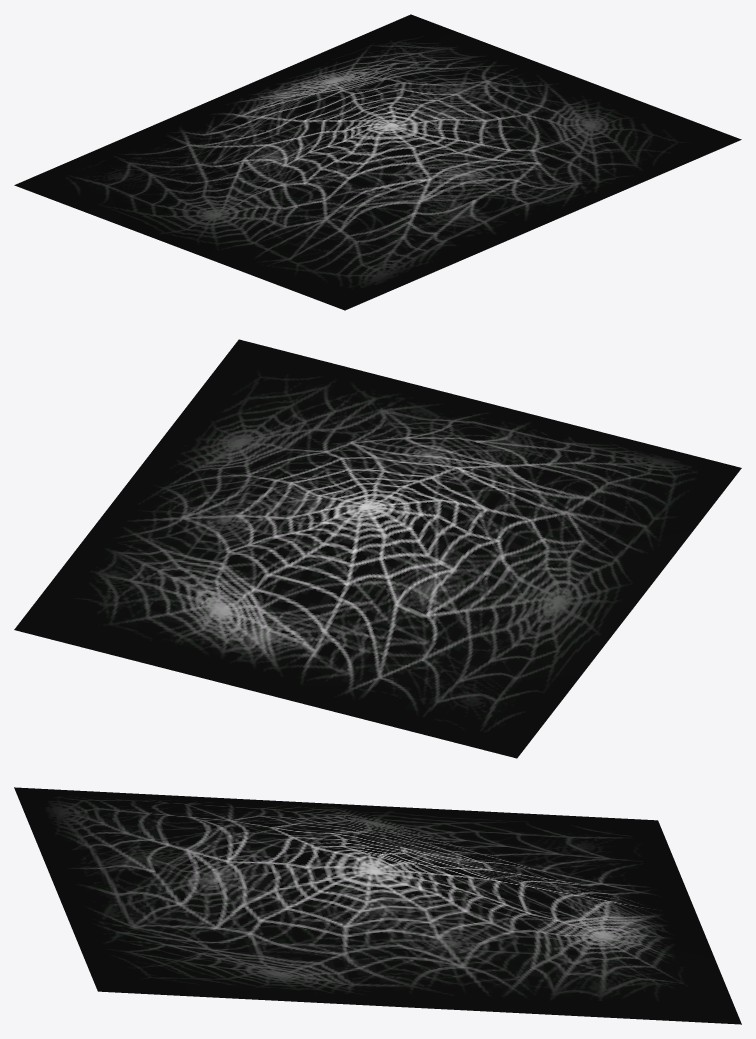
File: MIRKWOOD_PLANE23.fbx
3 renders of one model, top to bottom at view 1: azimuth 30°, elevation 25°; view 2: azimuth 150°, elevation 25°; view 3: azimuth 270°, elevation 25°, orthographic. The views are drawn at different scales.
Visible parts, largest first — view 1: MIRKWOOD_PLANE23; view 2: MIRKWOOD_PLANE23; view 3: MIRKWOOD_PLANE23.
Boxes of the visible parts, box(x1,y1,x2,y2) form: MIRKWOOD_PLANE23: box(14, 14, 741, 310); MIRKWOOD_PLANE23: box(14, 339, 741, 758); MIRKWOOD_PLANE23: box(14, 787, 741, 1024).
Size of the model in its own units: 121212 by 22813 by 129871.
1 material, 1 textured.
